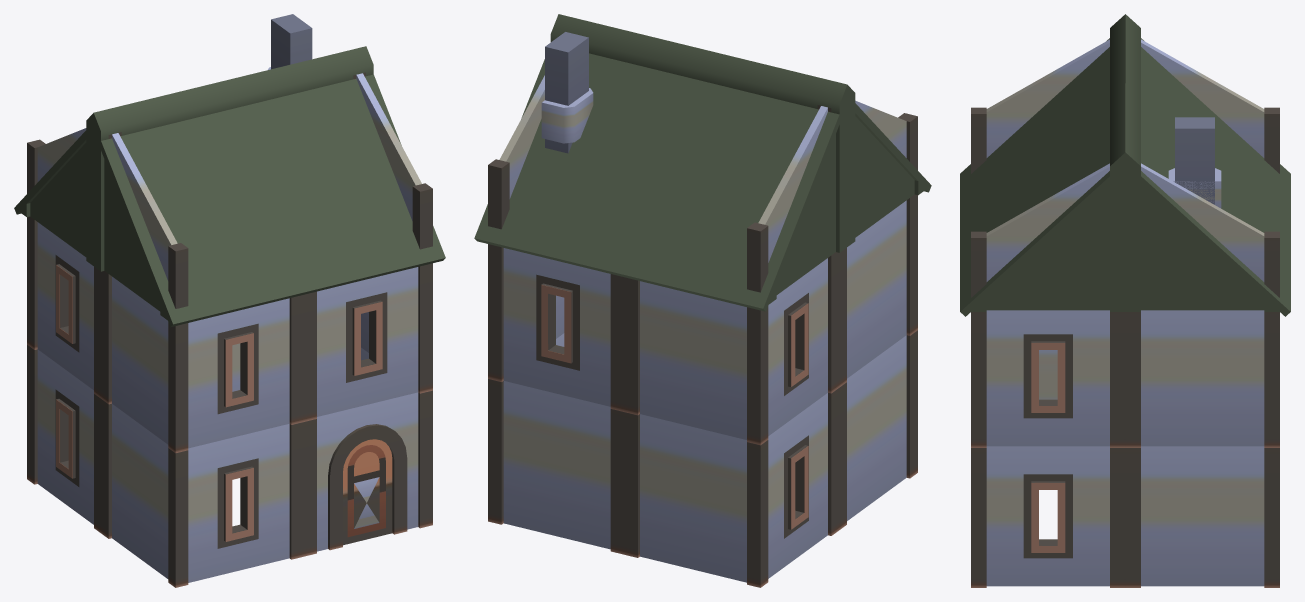
Rendered from maison-elcres-2.glb.
3 views of the same model, side by side, from view 1: azimuth 30°, elevation 25°; view 2: azimuth 150°, elevation 25°; view 3: azimuth 270°, elevation 25° (orthographic). The views are drawn at different scales.
Parts seen in each view (by area): view 1: wall-window-small, roof-high; view 2: wall-window-small, roof-high; view 3: wall-window-small, roof-high.
Part boxes in pixels (x1,y1,x2,y2): wall-window-small: (27,14,432,587); roof-high: (14,46,445,327); wall-window-small: (488,32,917,587); roof-high: (474,14,931,311); wall-window-small: (971,39,1279,587); roof-high: (960,14,1290,316).
Size of the model in its own units: 6.36 by 9.6 by 6.42.
2 materials, 1 textured.
